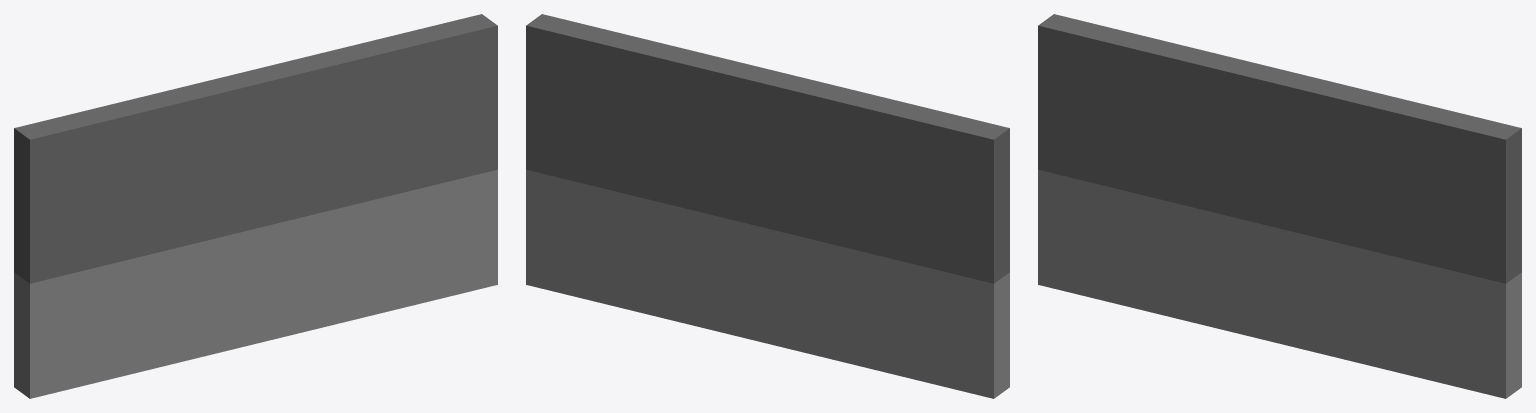
The model's file is bulldozer3-front.obj.
3 renders of one model, left to right at view 1: azimuth 30°, elevation 25°; view 2: azimuth 150°, elevation 25°; view 3: azimuth 330°, elevation 25°, orthographic.
Bounding box in the file's own units: 34 × 18 × 2.
1 material, 1 textured.
